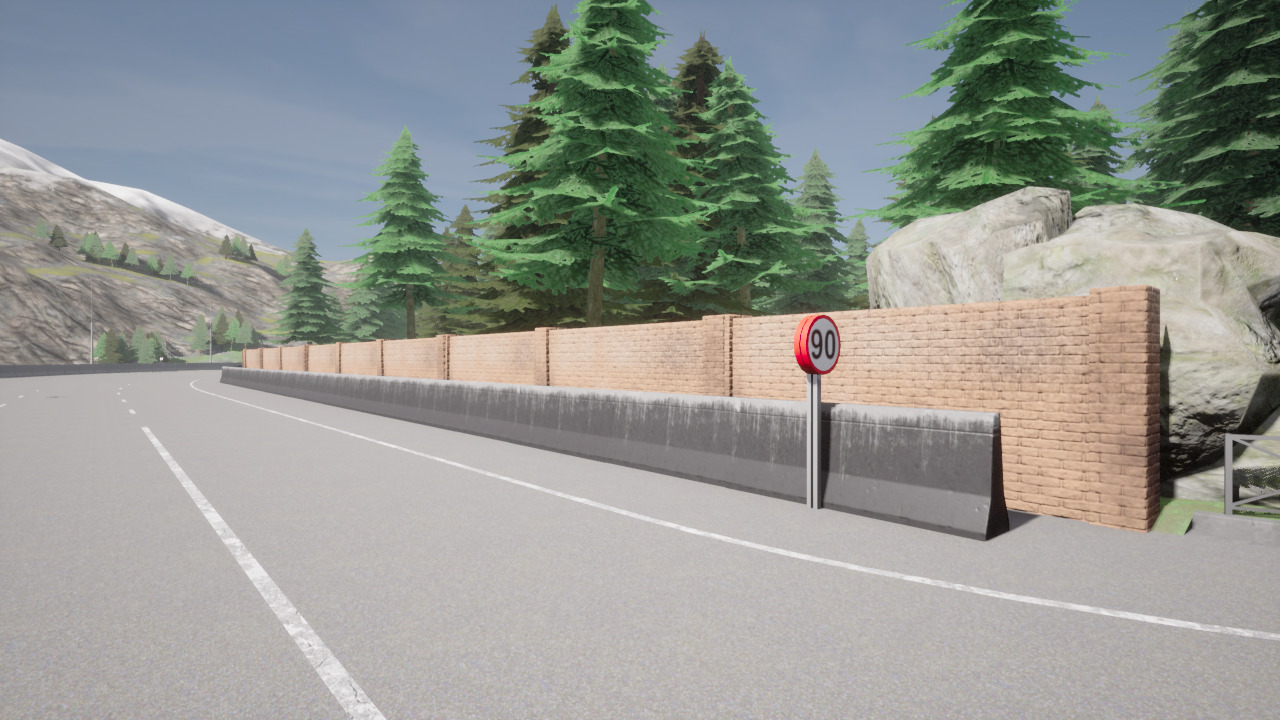sl90: (793, 313, 844, 376)
